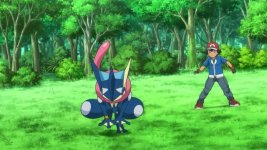greninja: (77, 38, 146, 139)
